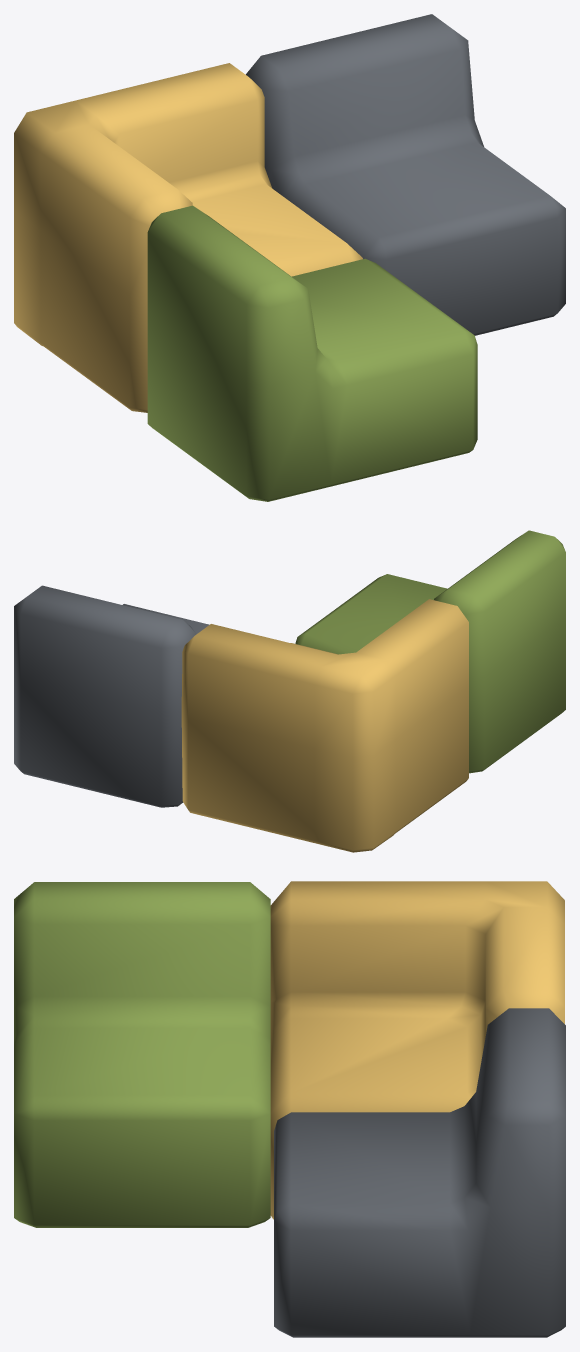
File: Group_sofa_01.FBX
3 renders of one model, top to bottom at view 1: azimuth 30°, elevation 25°; view 2: azimuth 150°, elevation 25°; view 3: azimuth 270°, elevation 25°, orthographic. The views are drawn at different scales.
Visible parts, largest first — view 1: sofa01, sofa03, sofa02; view 2: sofa02, sofa03, sofa01; view 3: sofa01, sofa03, sofa02.
Boxes of the visible parts, left/top/right/bottom form: sofa01: left=147, top=205, right=477, bottom=501; sofa03: left=246, top=14, right=565, bottom=335; sofa02: left=14, top=63, right=362, bottom=412; sofa02: left=181, top=599, right=468, bottom=852; sofa03: left=14, top=585, right=209, bottom=807; sofa01: left=295, top=530, right=565, bottom=773; sofa01: left=14, top=882, right=270, bottom=1227; sofa03: left=274, top=1008, right=565, bottom=1337; sofa02: left=270, top=881, right=564, bottom=1219.
Size of the model in its own units: 188 by 87.45 by 188.
1 material, 1 textured.
